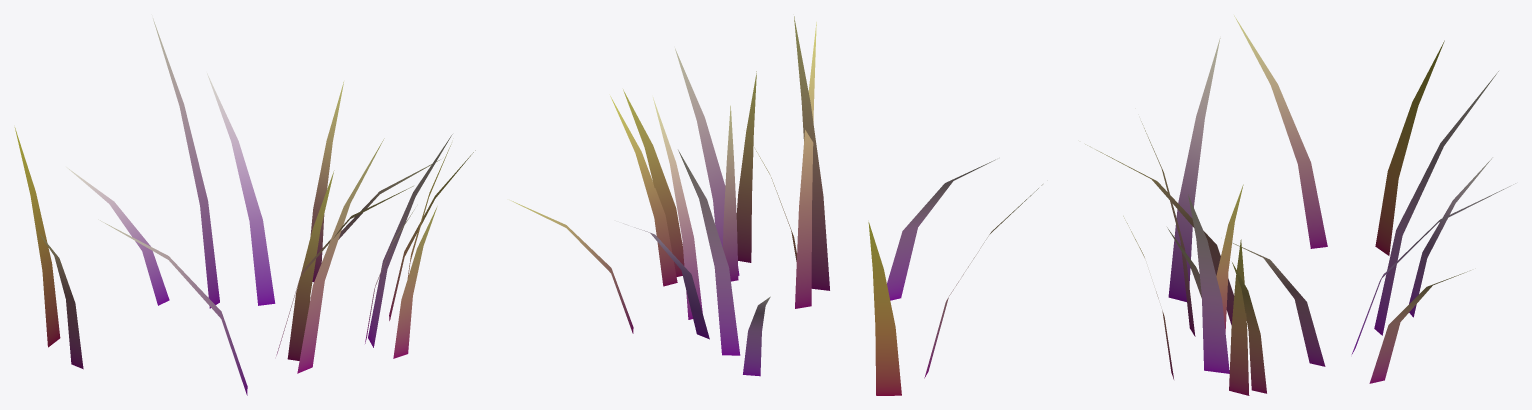
Rendered from grass_clump_d.glb.
3 views of the same model, side by side, from view 1: azimuth 30°, elevation 25°; view 2: azimuth 150°, elevation 25°; view 3: azimuth 270°, elevation 25° (orthographic). The views are drawn at different scales.
Visible parts, largest first — view 1: grass_clump_d; view 2: grass_clump_d; view 3: grass_clump_d.
Part boxes in pixels (<box>): grass_clump_d: <box>14,18,475,395</box>; grass_clump_d: <box>510,16,1042,395</box>; grass_clump_d: <box>1085,15,1515,395</box>.
Bounding box in the file's own units: 0.3073 × 0.1677 × 0.2568.
